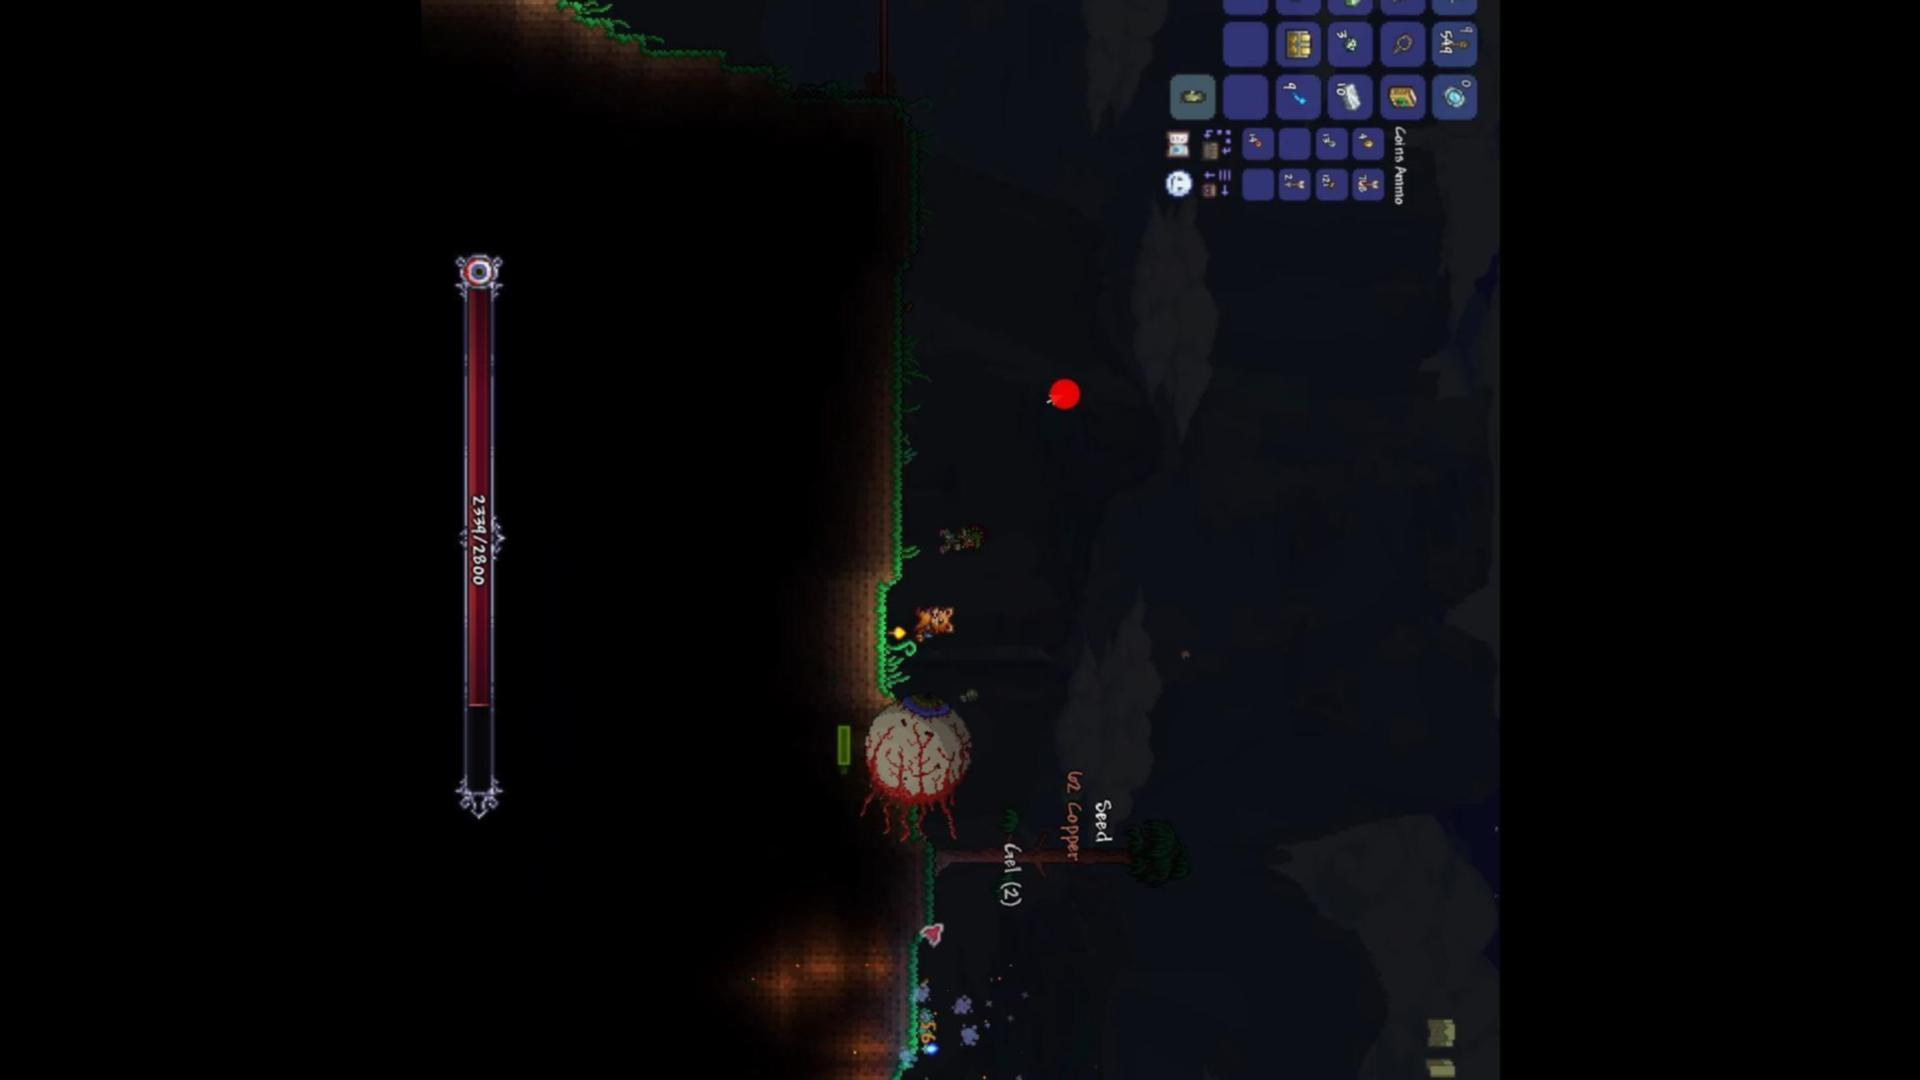cobwebI: (1440, 0, 1466, 5)
eyeC: (825, 680, 992, 862)
